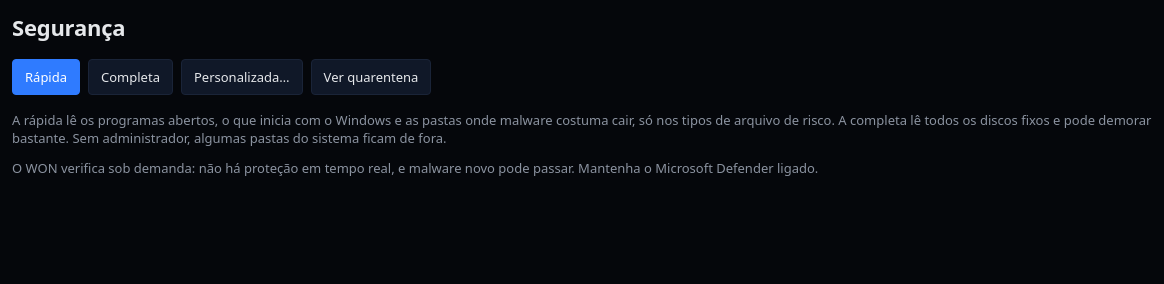
Segurança › resultado interrompido diz que é parcial
Click the button "Rápida" at (46, 77), box left=12, top=59, right=80, bottom=95
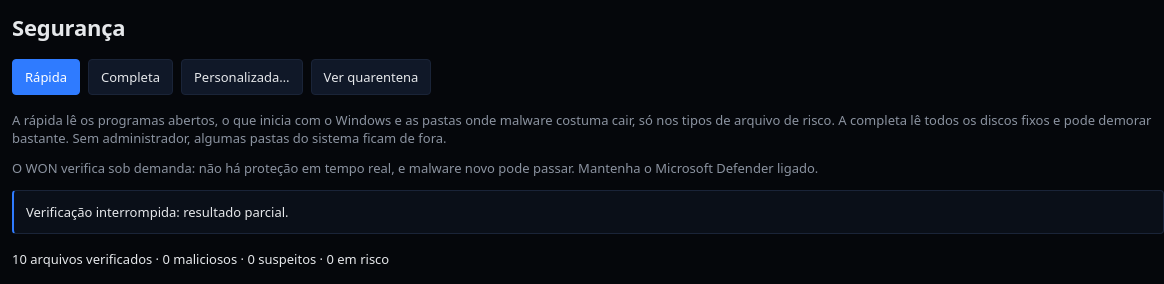
Expected: the text "Verificação interrompida: resultado parcial." is shown, left=12, top=190, right=1163, bottom=234
